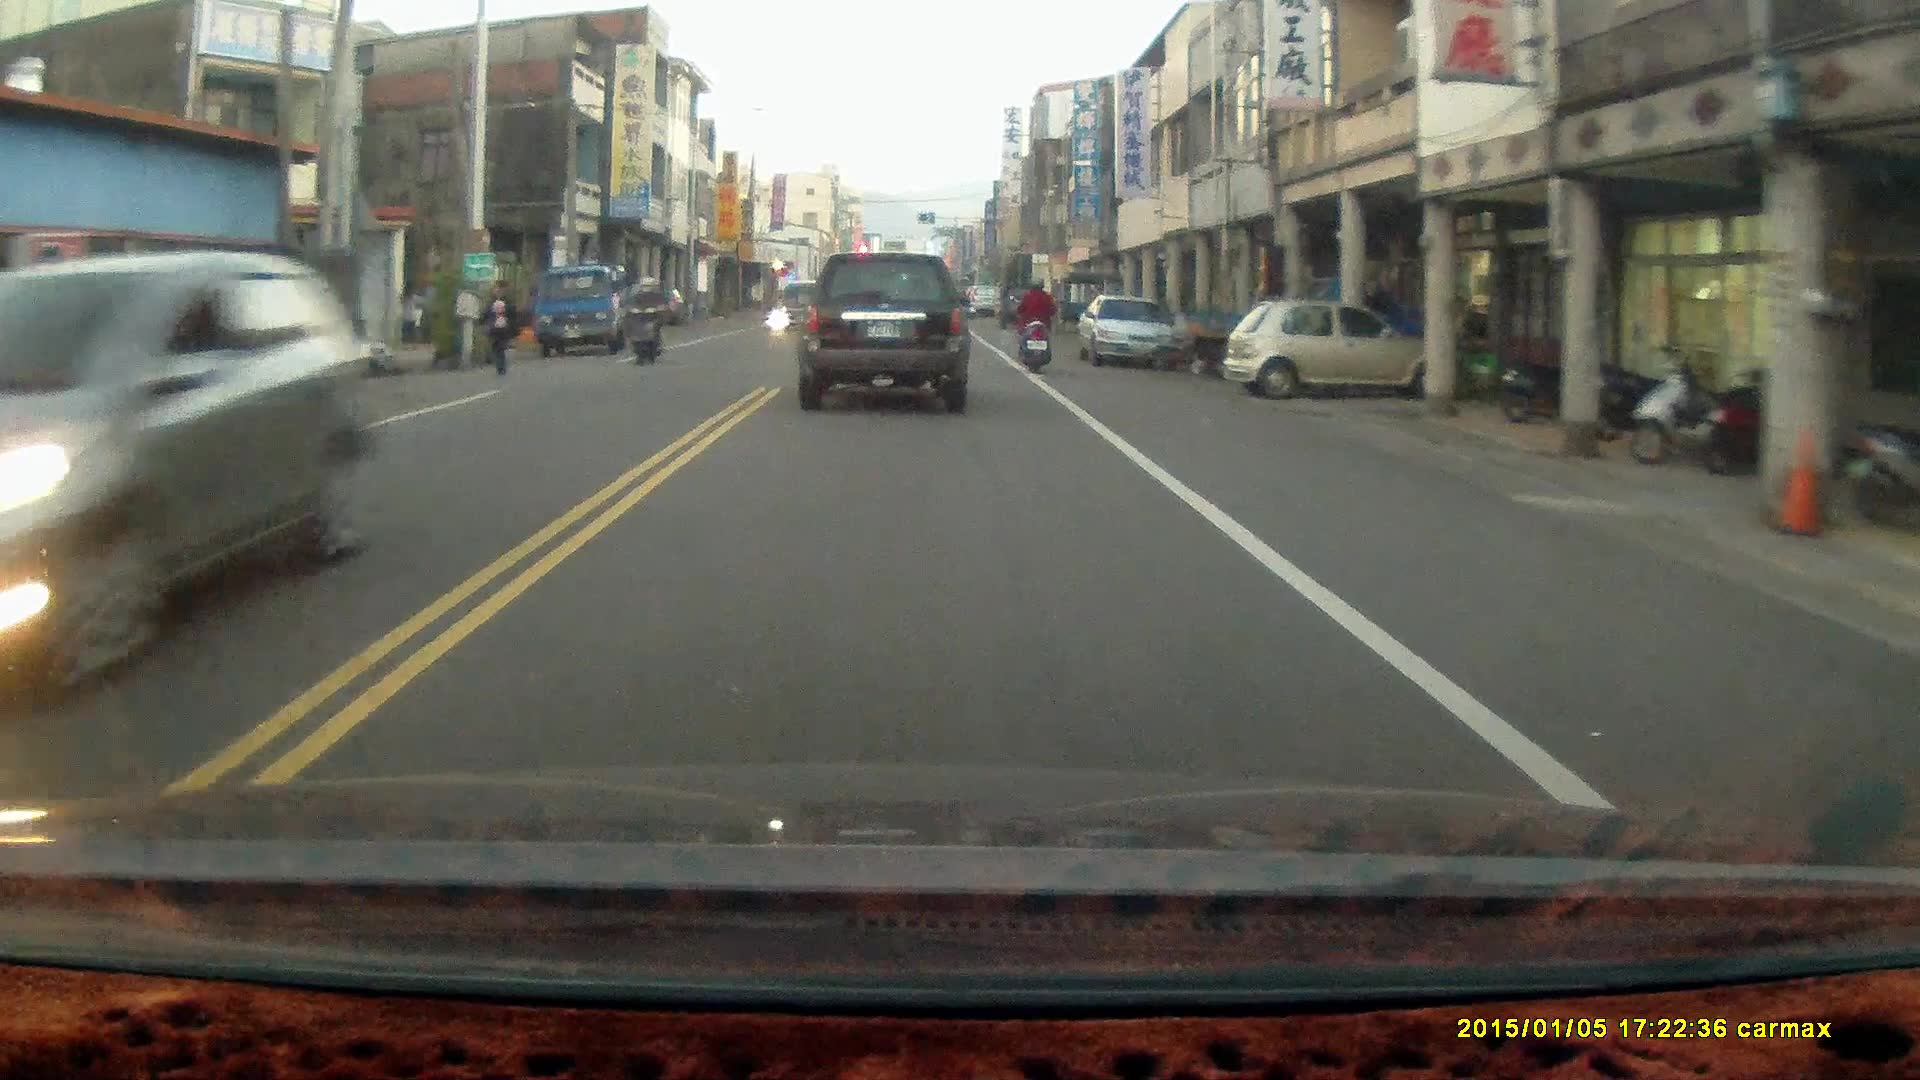pedestrian: (482, 278, 521, 379)
rider: (621, 275, 667, 365), (1015, 274, 1054, 372)
vehicle: (1, 252, 391, 676), (794, 250, 973, 418), (1227, 300, 1457, 400), (537, 263, 665, 358), (1079, 298, 1181, 373)
